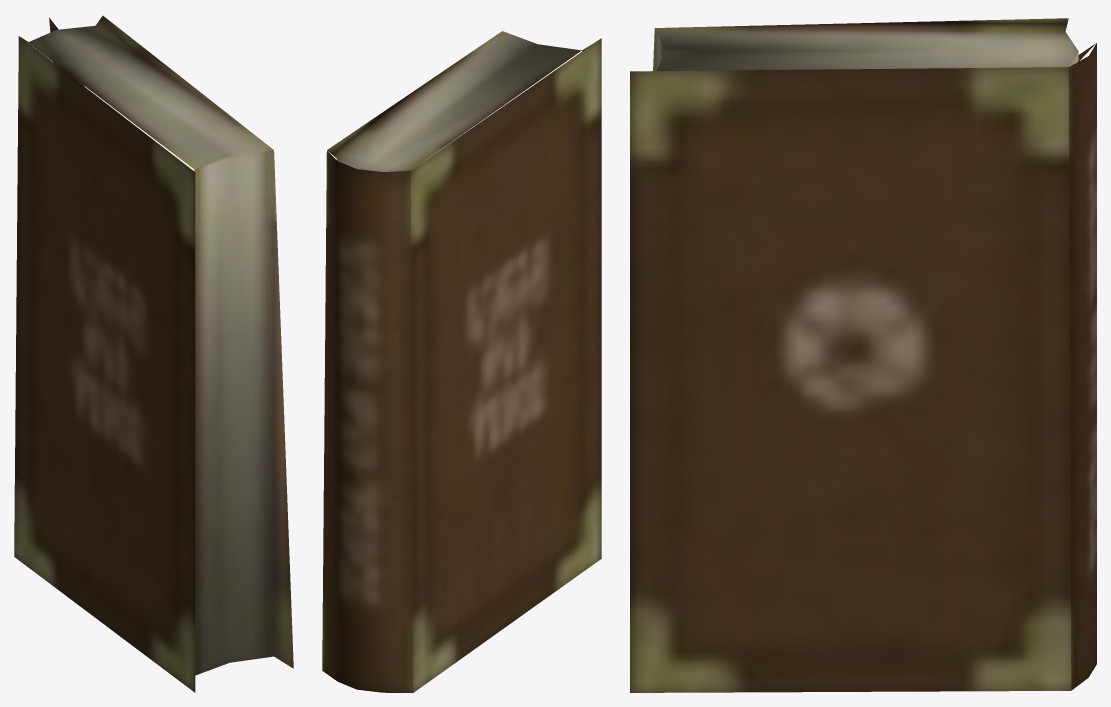
The model's file is standardBook.glb.
The picture shows the model from 3 angles, left to right: view 1: azimuth 30°, elevation 25°; view 2: azimuth 150°, elevation 25°; view 3: azimuth 270°, elevation 25°; orthographic projection. The views are drawn at different scales.
Visible parts, largest first — view 1: standardBook; view 2: standardBook; view 3: standardBook.
Boxes of the visible parts, x1,y1,x2,y2 form: standardBook: [14, 15, 293, 692]; standardBook: [322, 31, 601, 692]; standardBook: [630, 18, 1096, 692].
Size of the model in its own units: 0.0735 by 0.3713 by 0.2527.
1 material, 1 textured.
